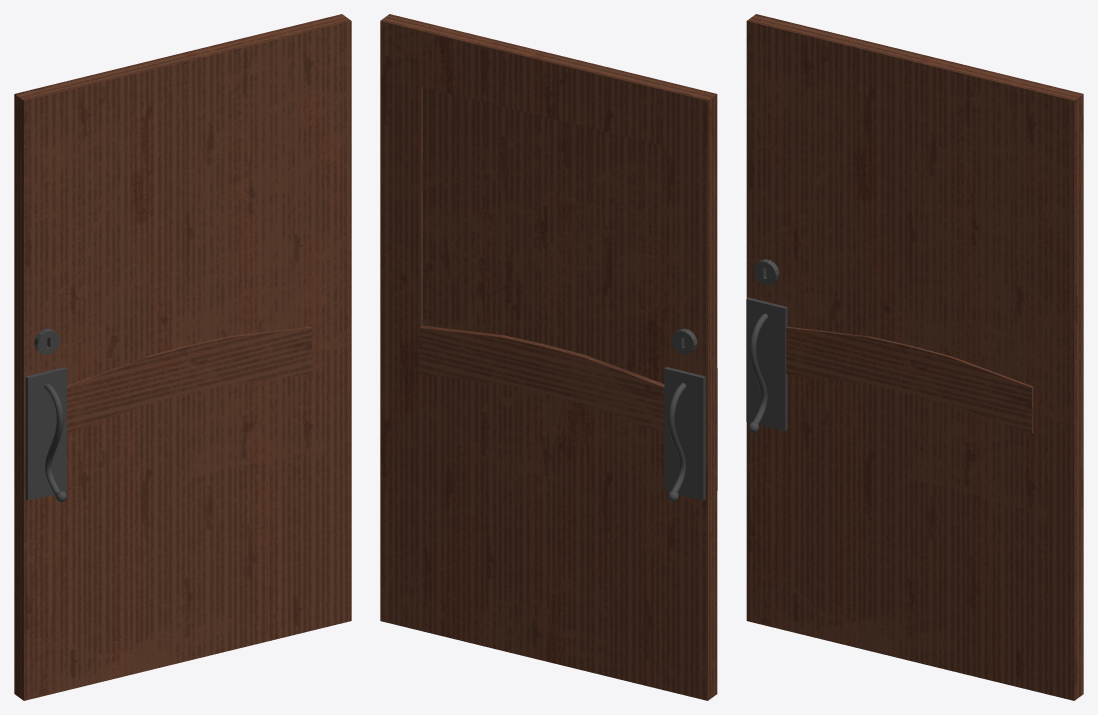
Rendered from CabinFrontDoor.fbx.
The picture shows the model from 3 angles, left to right: view 1: azimuth 30°, elevation 25°; view 2: azimuth 150°, elevation 25°; view 3: azimuth 330°, elevation 25°; orthographic projection.
Parts seen in each view (by area): view 1: Door.002, KeyholeBack.002; view 2: Door.002, KeyholeFront.003; view 3: Door.002, KeyholeBack.002.
Part boxes in pixels (bbox=[...]): Door.002: bbox=[14, 14, 351, 700]; KeyholeBack.002: bbox=[34, 328, 59, 354]; Door.002: bbox=[380, 14, 717, 700]; KeyholeFront.003: bbox=[671, 328, 697, 354]; Door.002: bbox=[746, 14, 1083, 700]; KeyholeBack.002: bbox=[753, 259, 779, 285].
Bounding box in the file's own units: 800 × 1400 × 190.
